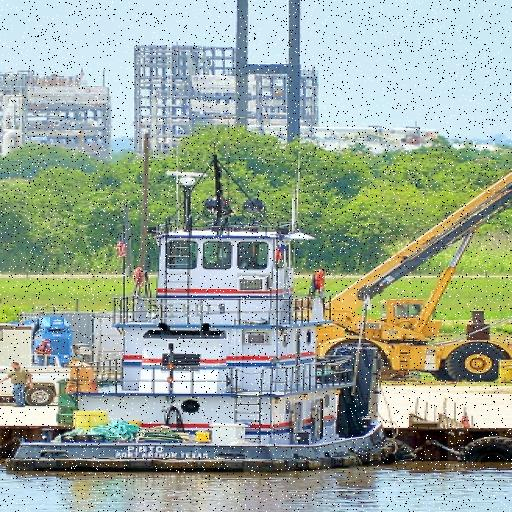tugboat: (1, 165, 405, 479)
